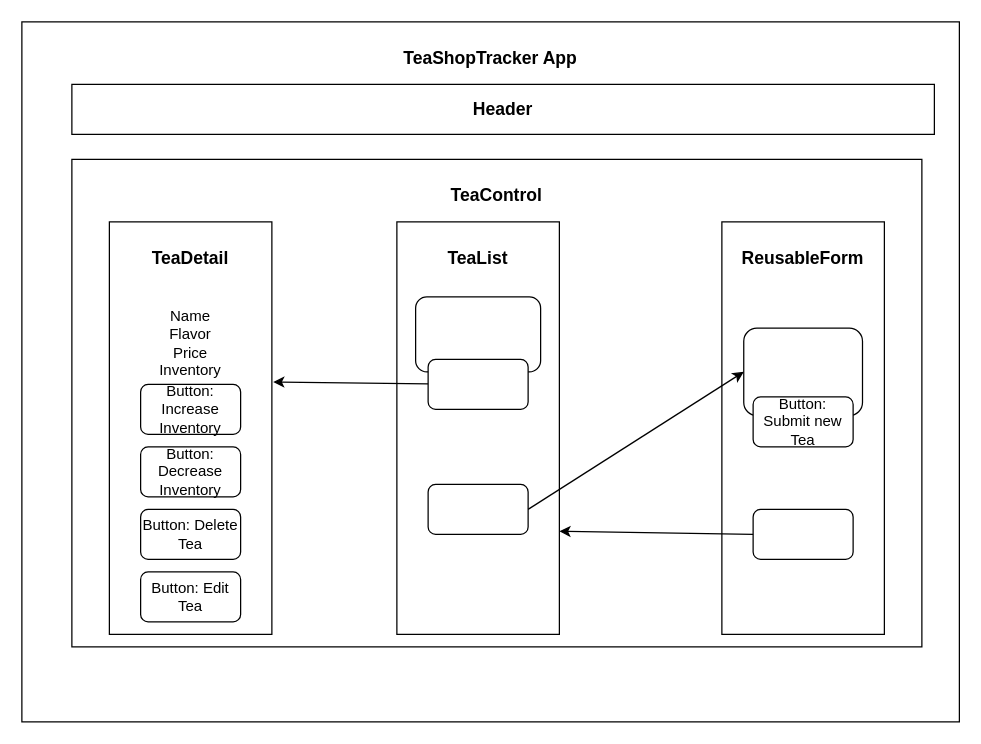
The diagram is 981 pixels wide and 744 high, and some of its shapes have lost their labels. The shapes that lost their labels are listed below. From the top down, each one's centre as x and y in pixels, then its label:
At pixel 477 334: "Individual Tea Details".
At pixel 477 383: "Click to see tea details".
At pixel 802 371: "NewTea Create Form".
At pixel 477 508: "Button: Add New Tea".
At pixel 802 533: "Button: Back to Tea List".
